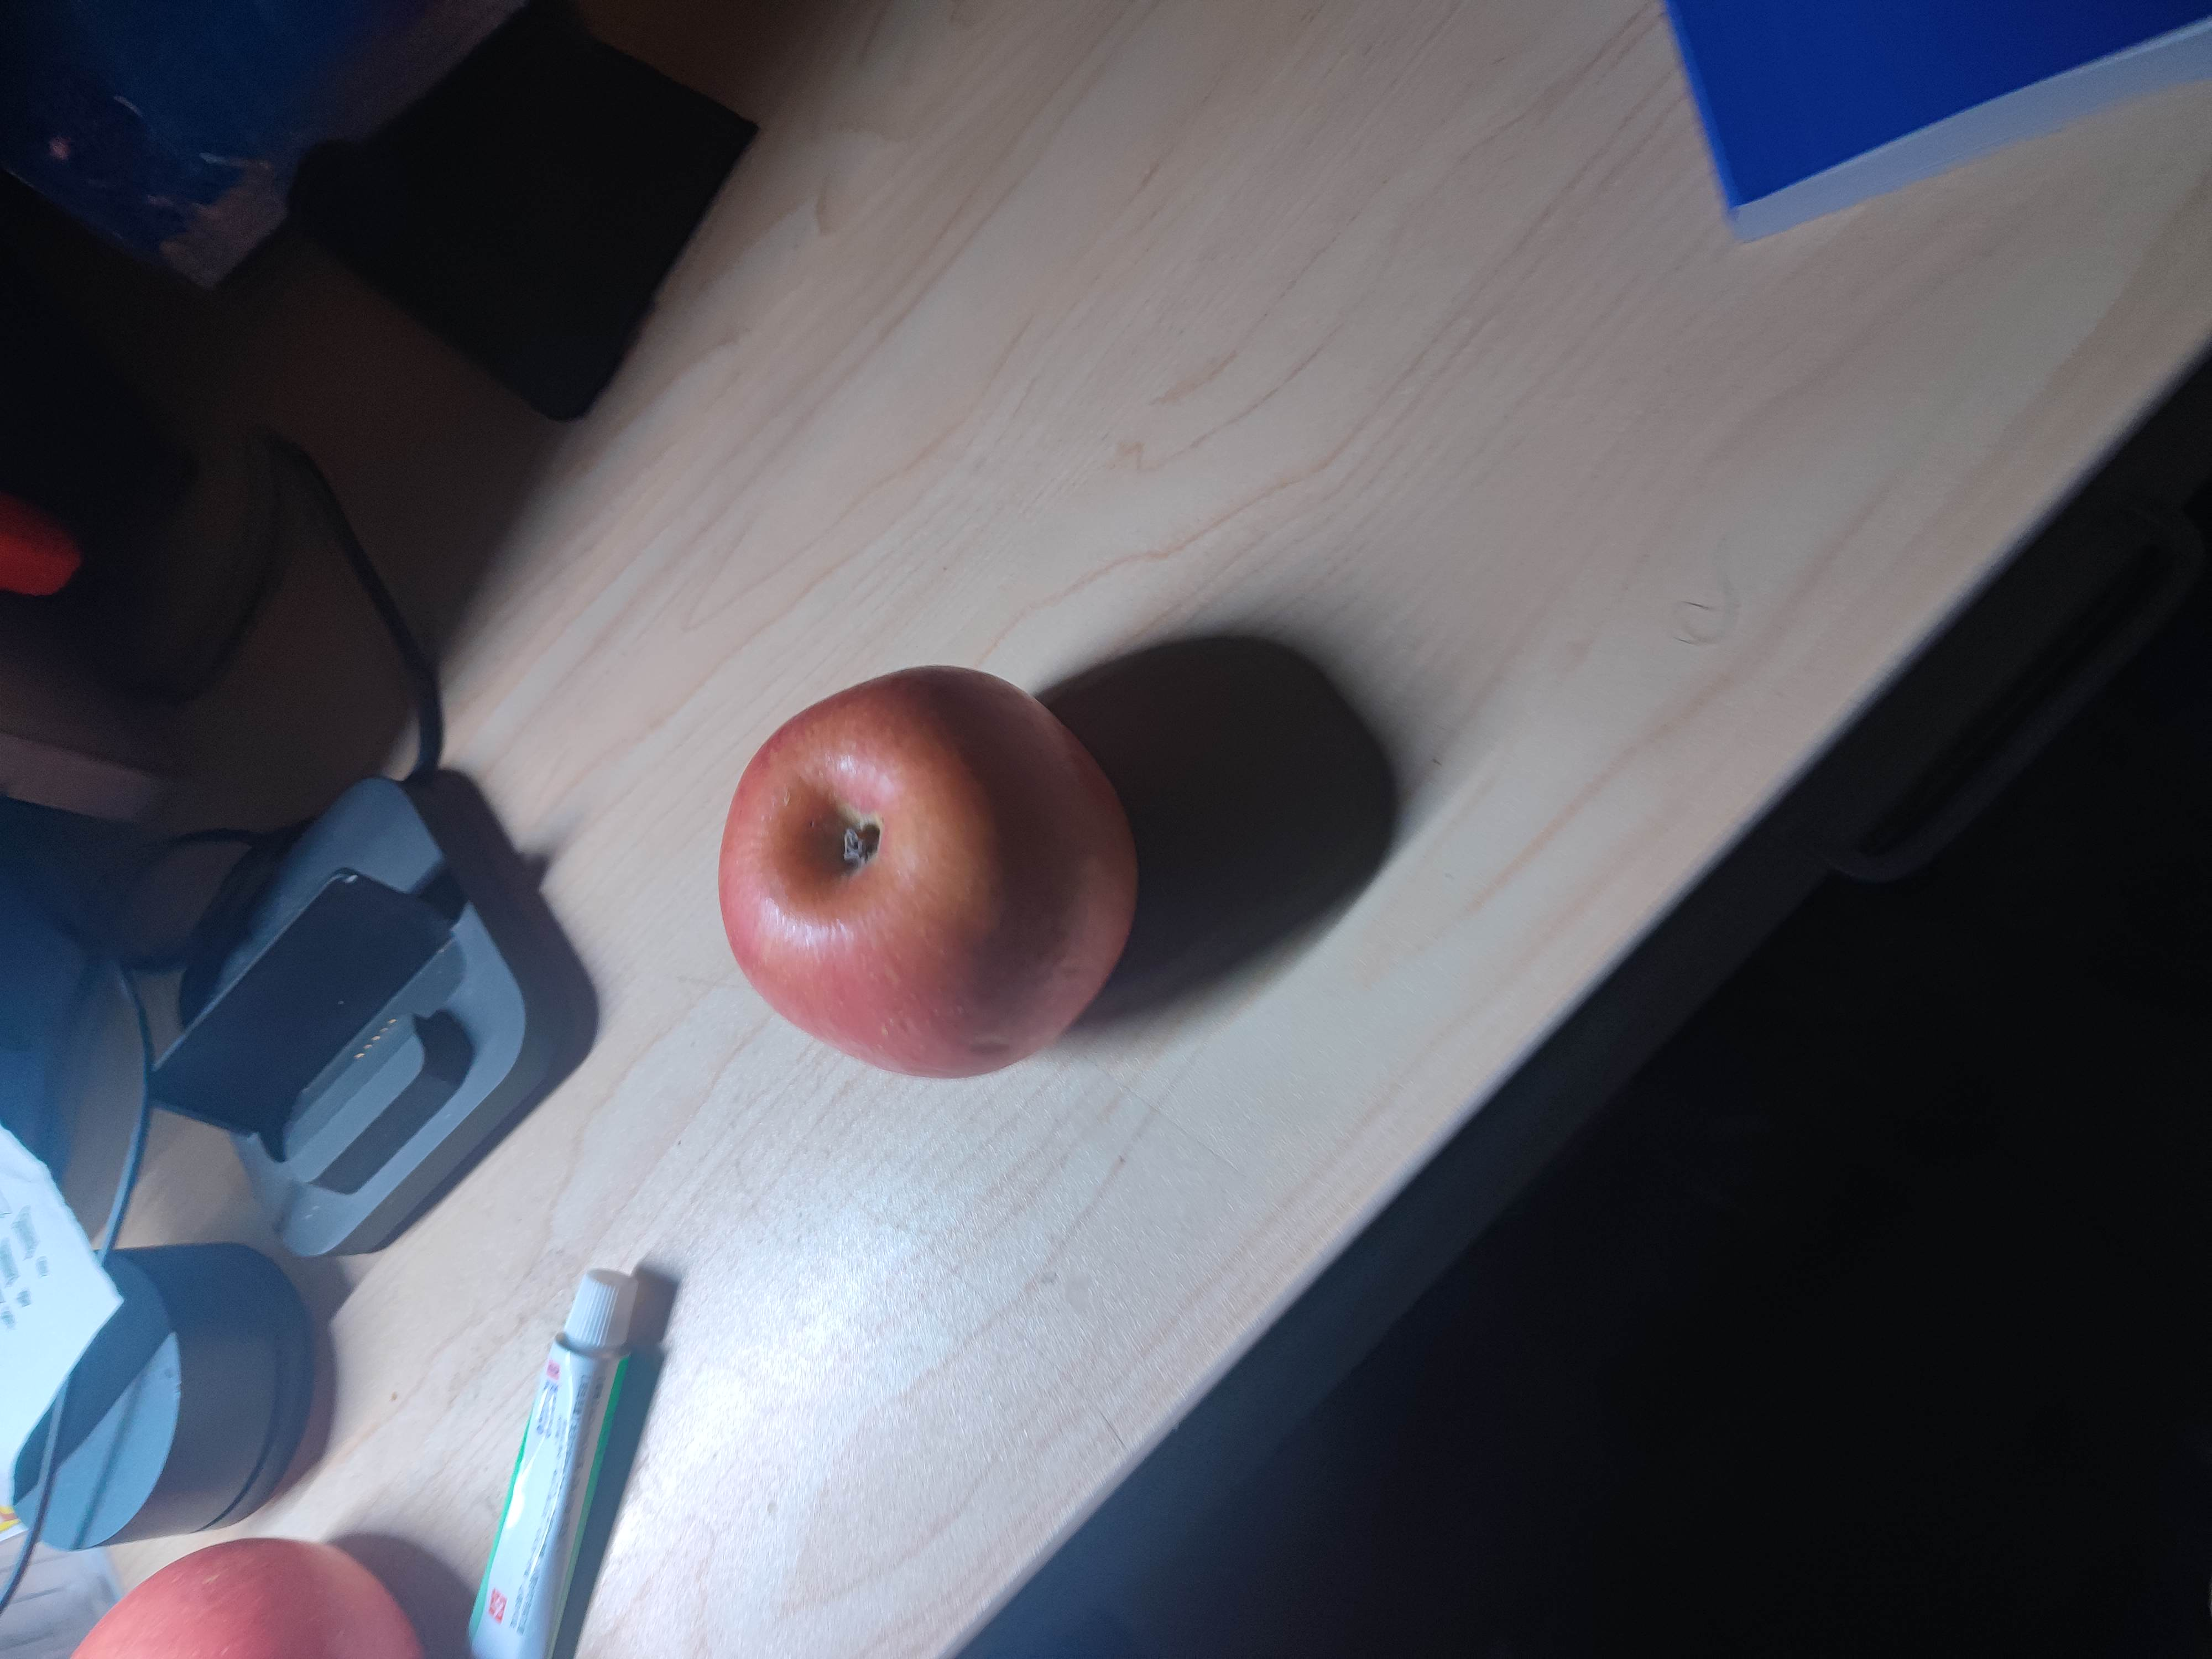apple: (719, 660, 1139, 1091)
